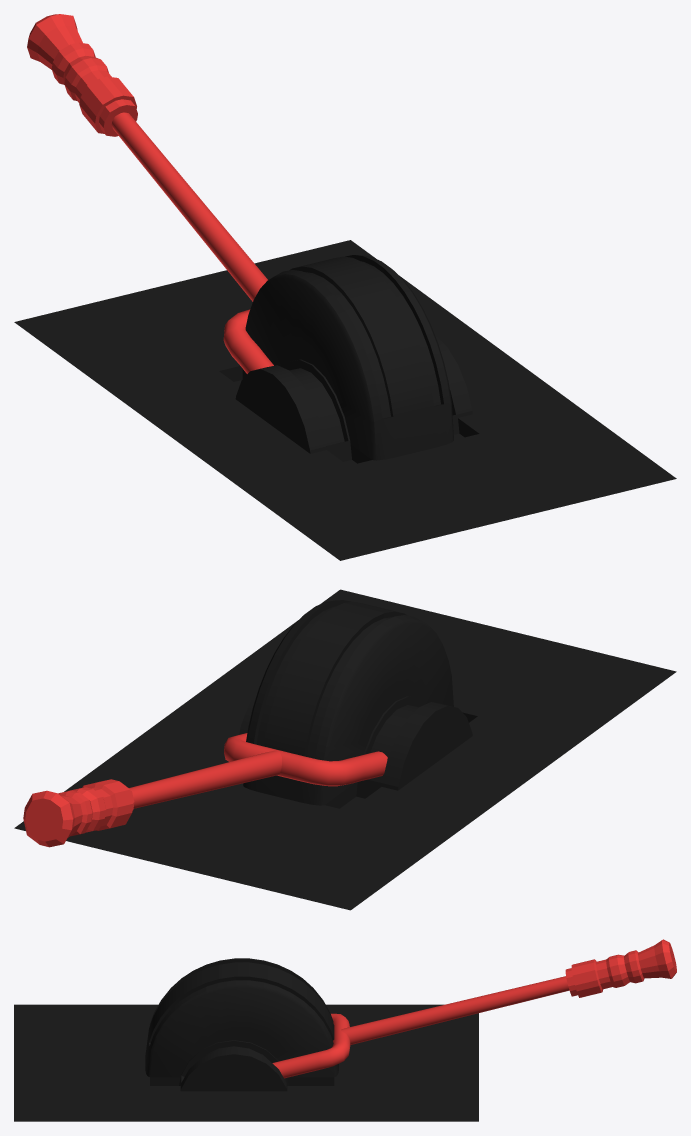
File: Lever 1.fbx
3 views of the same model, one above another, from view 1: azimuth 30°, elevation 25°; view 2: azimuth 150°, elevation 25°; view 3: azimuth 270°, elevation 25° (orthographic). The views are drawn at different scales.
Visible parts, largest first — view 1: polySurface474, polySurface477; view 2: polySurface474, polySurface477; view 3: polySurface474, polySurface477.
Part boxes in pixels (x1=…): polySurface474: x1=14, y1=240, x2=676, y2=560; polySurface477: x1=27, y1=14, x2=273, y2=373; polySurface474: x1=14, y1=589, x2=676, y2=910; polySurface477: x1=23, y1=733, x2=387, y2=847; polySurface474: x1=14, y1=958, x2=478, y2=1121; polySurface477: x1=272, y1=939, x2=676, y2=1078.
Bounding box in the file's own units: 138 × 72.65 × 330.
